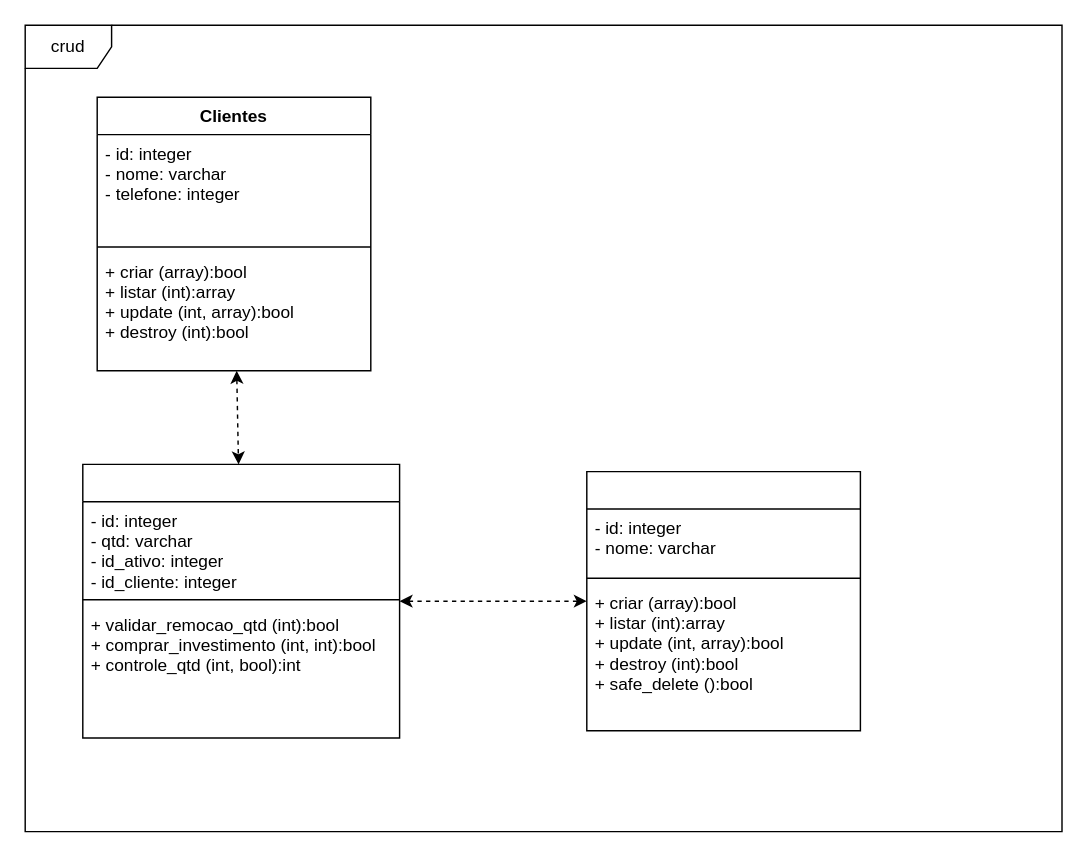
Some shapes in this 1087 by 857 pixel diagram are drawn without their labels. The shapes that lost their labels are listed below. From the top down, each one's box as (x1, y1, x2, y2) in pixels, then its label:
(81, 463, 400, 738): Investimentos
(585, 470, 860, 731): Ativos
